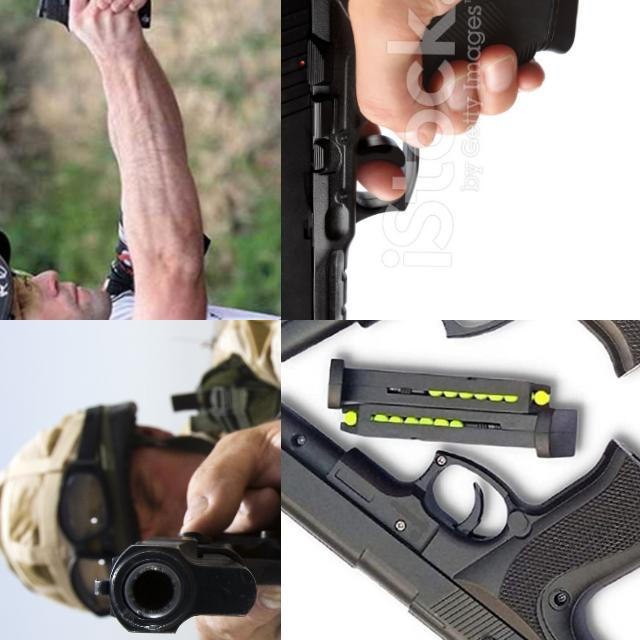handgun: (281, 0, 590, 320), (281, 391, 640, 640), (281, 320, 640, 471), (85, 510, 281, 639), (33, 0, 102, 77)
